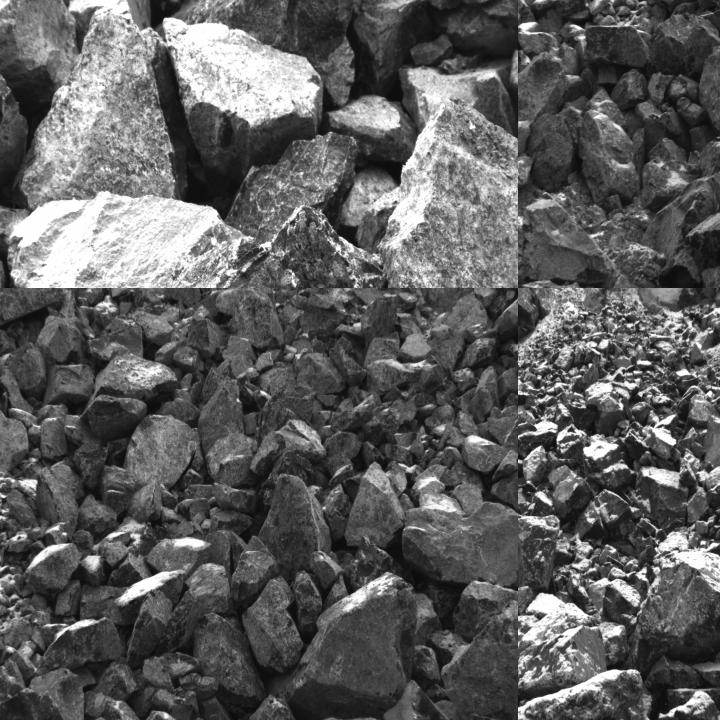stone: (11, 0, 191, 212), (163, 16, 324, 184), (377, 95, 517, 287), (6, 194, 224, 287), (177, 0, 360, 103), (283, 587, 418, 714), (633, 548, 719, 670), (401, 503, 517, 591), (260, 473, 334, 581), (524, 197, 614, 285), (445, 610, 517, 719), (518, 669, 669, 719), (0, 0, 79, 94), (350, 0, 429, 92), (194, 614, 265, 710), (518, 625, 608, 700), (160, 563, 232, 653), (241, 575, 305, 674), (324, 95, 417, 163), (125, 414, 200, 488), (577, 110, 636, 204), (34, 619, 125, 676), (346, 464, 404, 550), (89, 353, 177, 405), (214, 288, 288, 349), (251, 420, 328, 478), (646, 14, 716, 76), (255, 385, 315, 454), (0, 362, 33, 482), (518, 51, 568, 130), (633, 465, 691, 533), (36, 460, 85, 540), (126, 589, 173, 670), (0, 679, 94, 719), (528, 113, 573, 193), (200, 377, 244, 455), (232, 537, 278, 610), (26, 543, 83, 600), (575, 490, 639, 540), (641, 160, 700, 214), (518, 516, 559, 591), (0, 288, 64, 334), (205, 432, 258, 487), (352, 538, 406, 591), (36, 314, 88, 366), (148, 538, 212, 580), (585, 26, 650, 66), (87, 323, 145, 367), (299, 292, 351, 340), (548, 464, 592, 520), (5, 342, 48, 399), (582, 437, 630, 488), (645, 654, 704, 694), (43, 364, 96, 408), (531, 0, 594, 37), (362, 293, 398, 357), (461, 432, 505, 483), (290, 571, 322, 641), (297, 354, 347, 396), (76, 494, 118, 542), (90, 658, 139, 699), (329, 336, 367, 388), (602, 577, 644, 619), (700, 46, 719, 137), (74, 442, 108, 491), (594, 618, 630, 664), (487, 408, 517, 463), (126, 480, 164, 522), (518, 419, 559, 457), (491, 457, 517, 514), (187, 320, 225, 358), (685, 393, 718, 435), (363, 330, 401, 366), (40, 415, 68, 463), (556, 424, 589, 464), (461, 337, 500, 370), (251, 694, 301, 719), (518, 614, 541, 665), (396, 332, 432, 362), (310, 551, 339, 588), (687, 487, 710, 524), (462, 322, 500, 344), (705, 465, 719, 510), (648, 0, 710, 10)
